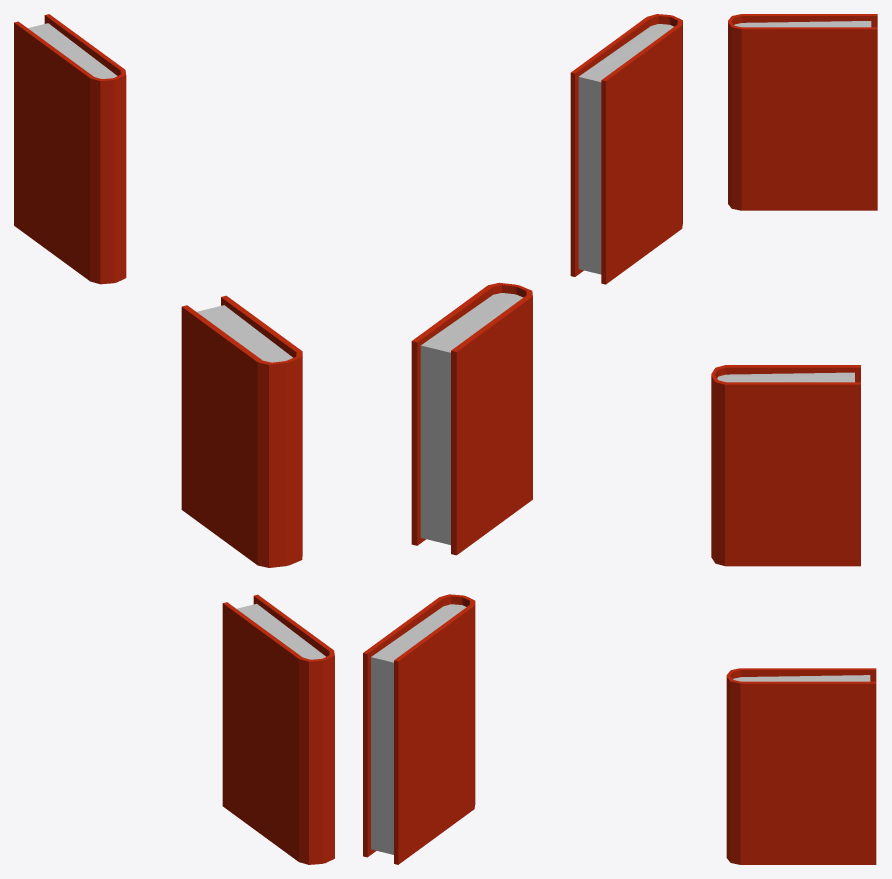
Rendered from room_escape_new_orange.obj.
3 renders of one model, left to right at view 1: azimuth 30°, elevation 25°; view 2: azimuth 150°, elevation 25°; view 3: azimuth 270°, elevation 25°, orthographic. The views are drawn at different scales.
Parts seen in each view (by area): view 1: Cube.033_red_orange_book, Cube.025_red_orange_book, Cube.014_red_orange_book, Cube.033_white_paper, Cube.014_white_paper, Cube.025_white_paper; view 2: Cube.033_red_orange_book, Cube.025_red_orange_book, Cube.014_red_orange_book, Cube.033_white_paper, Cube.025_white_paper, Cube.014_white_paper; view 3: Cube.033_red_orange_book, Cube.014_red_orange_book, Cube.025_red_orange_book, Cube.033_white_paper, Cube.025_white_paper, Cube.014_white_paper.
Part boxes in pixels (bbox=[...]): Cube.033_red_orange_book: bbox=[181, 295, 302, 567]; Cube.025_red_orange_book: bbox=[14, 14, 126, 284]; Cube.014_red_orange_book: bbox=[222, 594, 334, 864]; Cube.033_white_paper: bbox=[197, 305, 292, 362]; Cube.014_white_paper: bbox=[236, 604, 325, 659]; Cube.025_white_paper: bbox=[28, 23, 117, 78]; Cube.033_red_orange_book: bbox=[411, 282, 532, 555]; Cube.025_red_orange_book: bbox=[570, 14, 682, 284]; Cube.014_red_orange_book: bbox=[363, 594, 475, 864]; Cube.033_white_paper: bbox=[420, 293, 523, 544]; Cube.025_white_paper: bbox=[578, 24, 673, 274]; Cube.014_white_paper: bbox=[371, 604, 466, 854]; Cube.033_red_orange_book: bbox=[711, 365, 860, 566]; Cube.014_red_orange_book: bbox=[726, 668, 876, 864]; Cube.025_red_orange_book: bbox=[728, 14, 877, 210]; Cube.033_white_paper: bbox=[717, 372, 854, 382]; Cube.025_white_paper: bbox=[734, 21, 871, 27]; Cube.014_white_paper: bbox=[733, 675, 870, 681].
Bounding box in the file's own units: 0.3852 × 1.26 × 0.2554.
